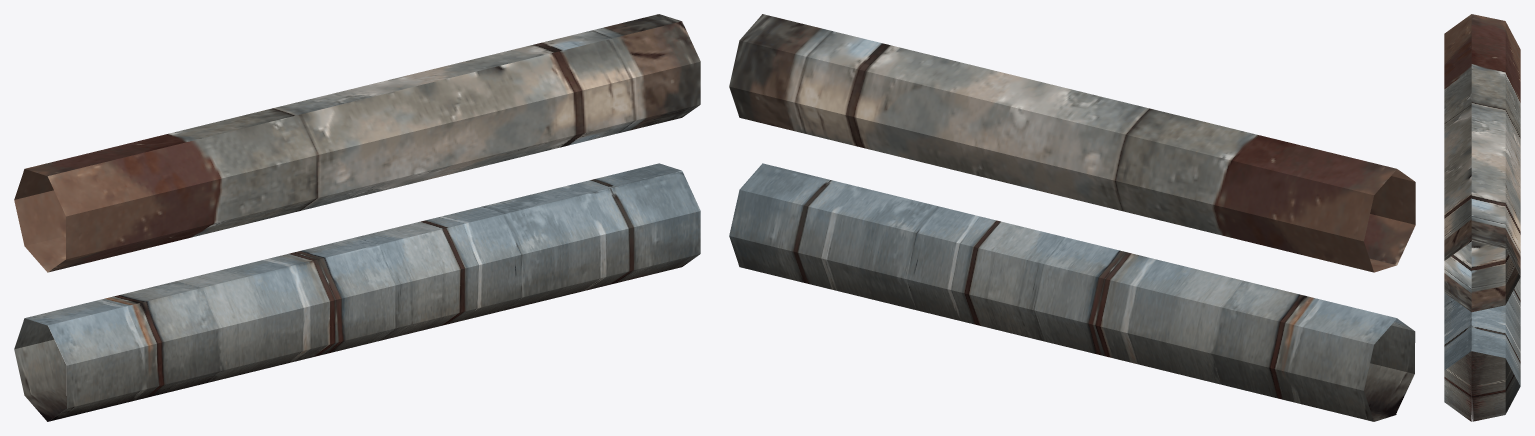
File: air tubes.fbx
3 renders of one model, left to right at view 1: azimuth 30°, elevation 25°; view 2: azimuth 150°, elevation 25°; view 3: azimuth 270°, elevation 25°, orthographic. The views are drawn at different scales.
Parts seen in each view (by area): view 1: Cylinder, Cylinder.001; view 2: Cylinder.001, Cylinder; view 3: Cylinder.001, Cylinder.
Part boxes in pixels (bbox=[...]): Cylinder: bbox=[14, 163, 700, 421]; Cylinder.001: bbox=[14, 14, 700, 272]; Cylinder.001: bbox=[729, 14, 1415, 272]; Cylinder: bbox=[729, 163, 1415, 421]; Cylinder.001: bbox=[1444, 14, 1520, 312]; Cylinder: bbox=[1444, 277, 1520, 421].
Bounding box in the file's own units: 2255 × 834 × 319.
1 material, 1 textured.
